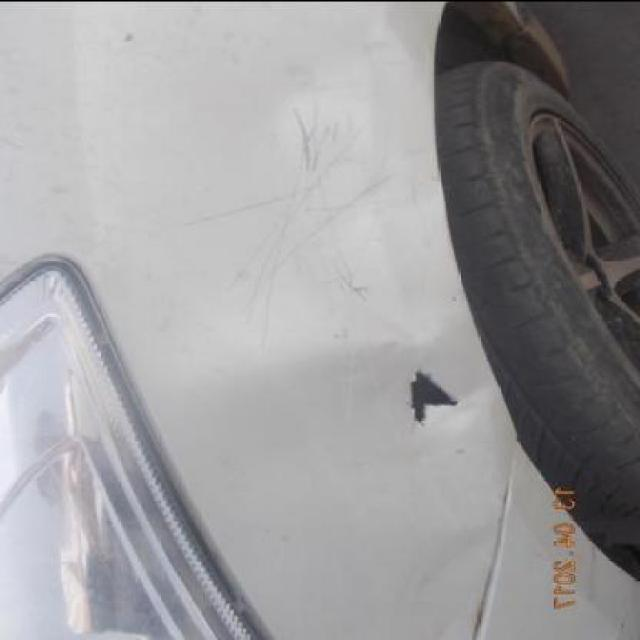damage: (399, 367, 469, 433)
